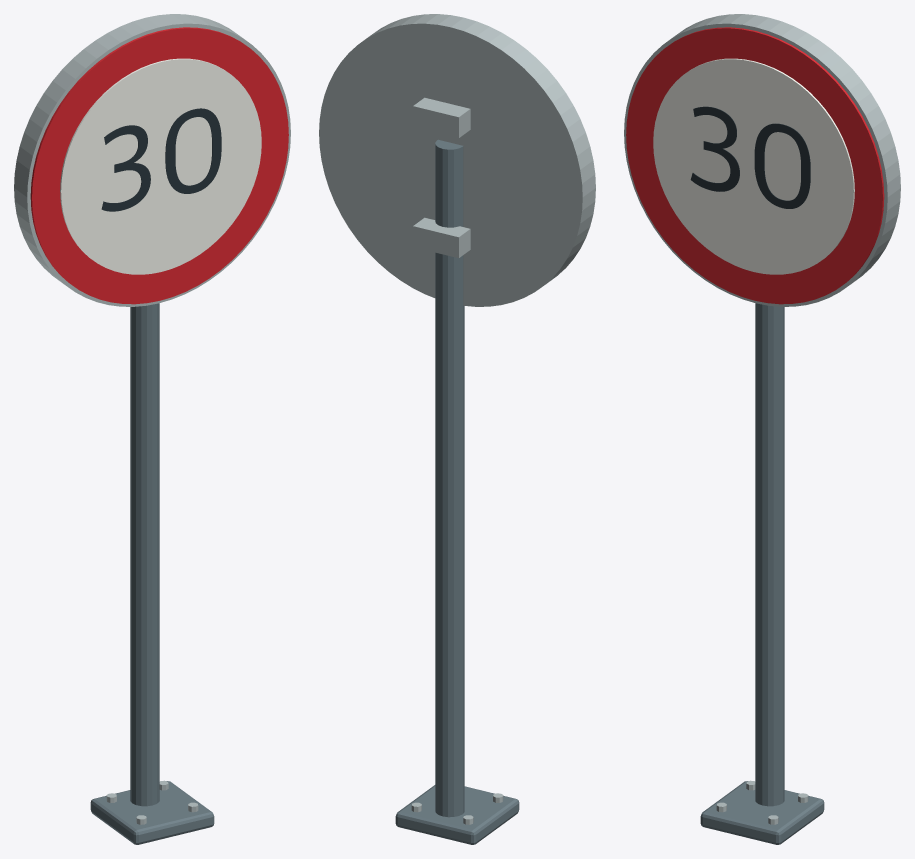
The model's file is SIMUS_Sign_Speed30.glb.
3 views of the same model, side by side, from view 1: azimuth 30°, elevation 25°; view 2: azimuth 150°, elevation 25°; view 3: azimuth 330°, elevation 25° (orthographic).
Parts seen in each view (by area): view 1: White center, Red ring, Post, Circle back, Foot plate, Legend 30; view 2: Circle back, Post, Foot plate, Rear clamp.001, Rear clamp; view 3: White center, Red ring, Post, Circle back, Foot plate, Legend 30.
Boxes of the visible parts, <box> form: White center: <box>60,58,261,274</box>; Red ring: <box>30,27,288,304</box>; Post: <box>130,303,159,806</box>; Circle back: <box>14,14,290,306</box>; Foot plate: <box>90,781,214,844</box>; Legend 30: <box>101,108,221,211</box>; Circle back: <box>319,14,595,306</box>; Post: <box>435,139,464,817</box>; Foot plate: <box>395,785,519,844</box>; Rear clamp.001: <box>413,97,470,138</box>; Rear clamp: <box>413,217,470,258</box>; White center: <box>653,58,854,274</box>; Red ring: <box>626,27,884,304</box>; Post: <box>755,303,784,806</box>; Circle back: <box>624,14,900,306</box>; Foot plate: <box>700,781,824,844</box>; Legend 30: <box>690,106,810,208</box>.
Bounding box in the file's own units: 0.92 × 2.66 × 0.28.
